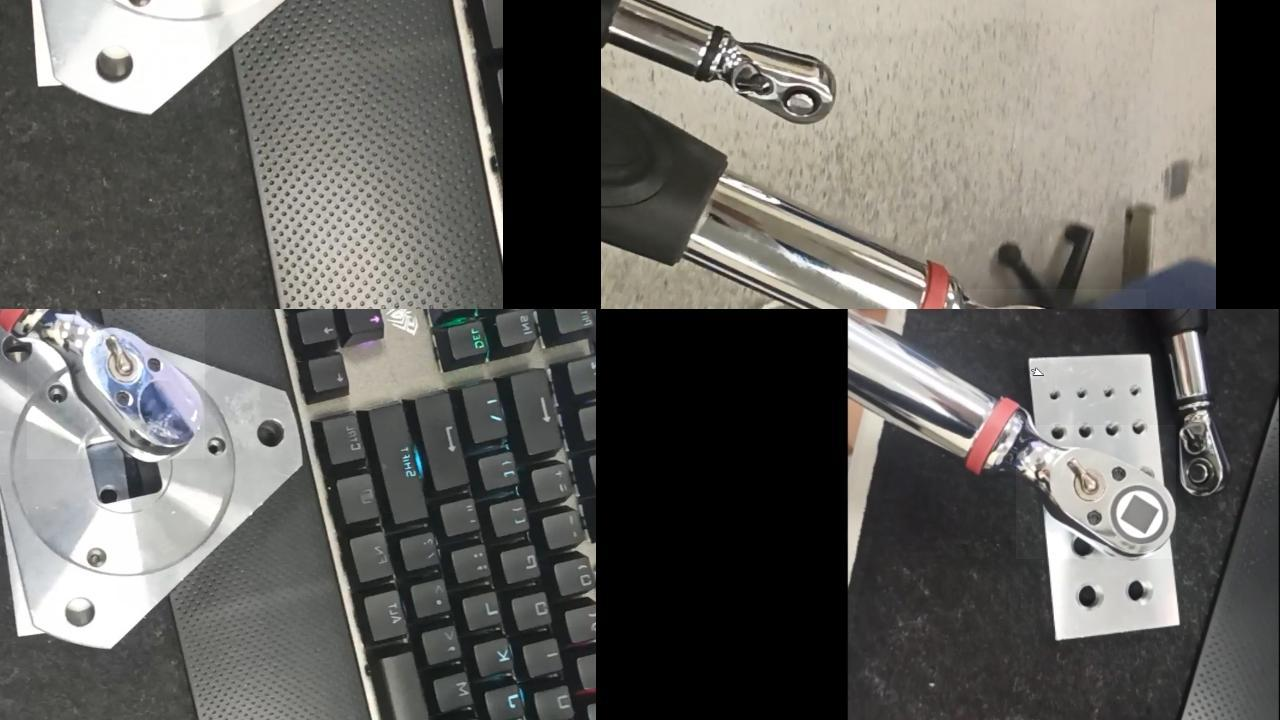Tool: (26, 309, 204, 459), (1015, 425, 1175, 559), (704, 37, 842, 127), (1174, 404, 1230, 498)
